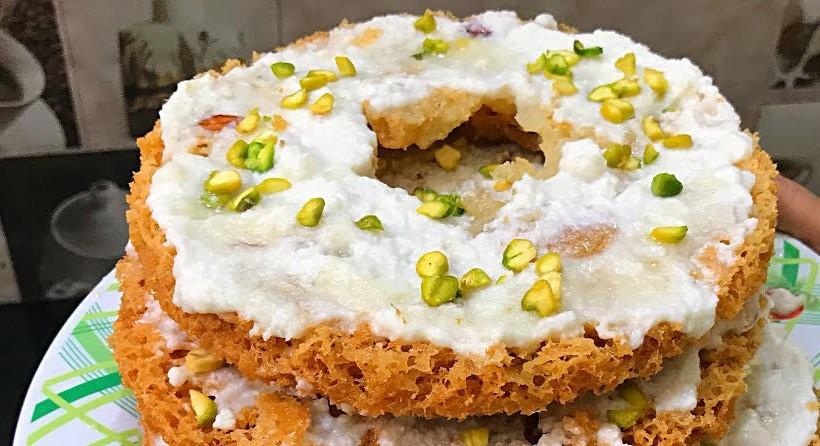Ghevar: (125, 7, 778, 419), (108, 253, 775, 446)
